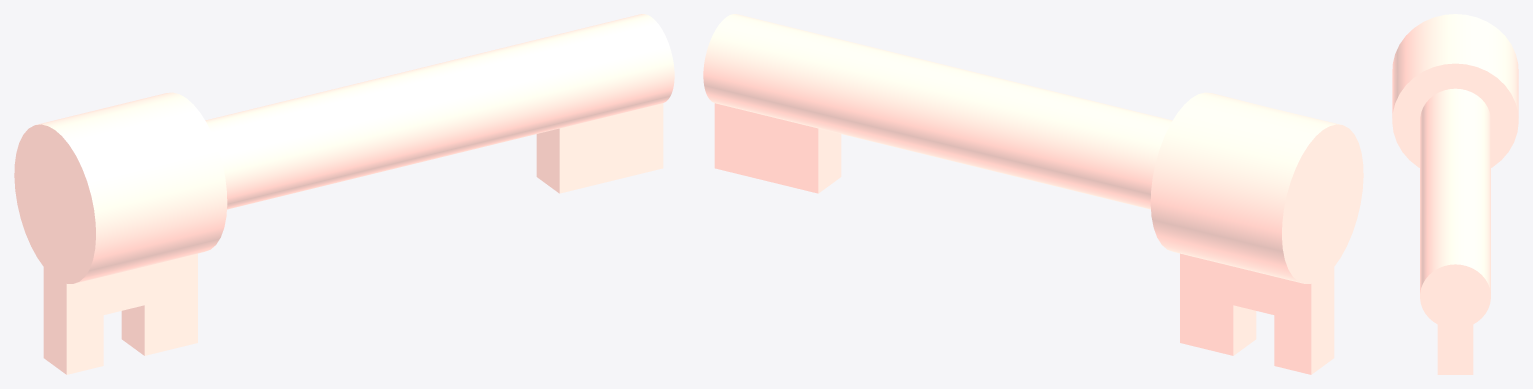
The model's file is clef2a.gltf.
The picture shows the model from 3 angles, left to right: view 1: azimuth 30°, elevation 25°; view 2: azimuth 150°, elevation 25°; view 3: azimuth 270°, elevation 25°; orthographic projection. The views are drawn at different scales.
Visible parts, largest first — view 1: cle; view 2: cle; view 3: cle.
Part boxes in pixels (x1=…): cle: x1=14, y1=14, x2=674, y2=374; cle: x1=703, y1=14, x2=1363, y2=374; cle: x1=1392, y1=14, x2=1518, y2=374.
Bounding box in the file's own units: 0.15 × 0.0568 × 0.0356.
